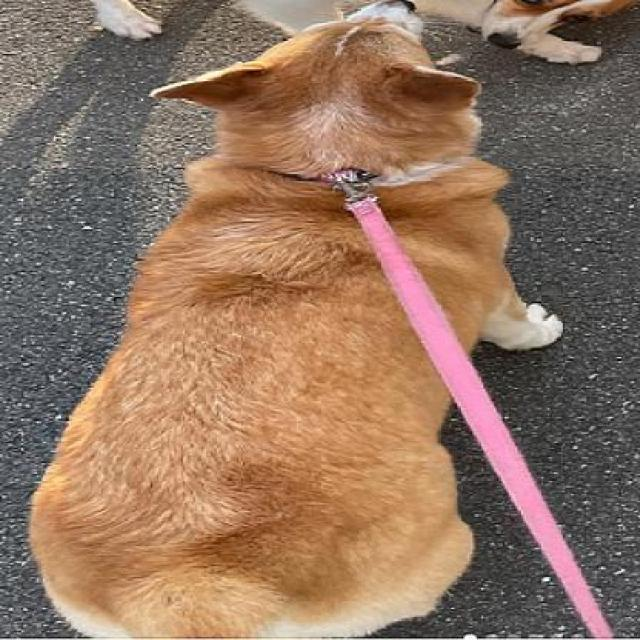Dog: (29, 0, 566, 638)
